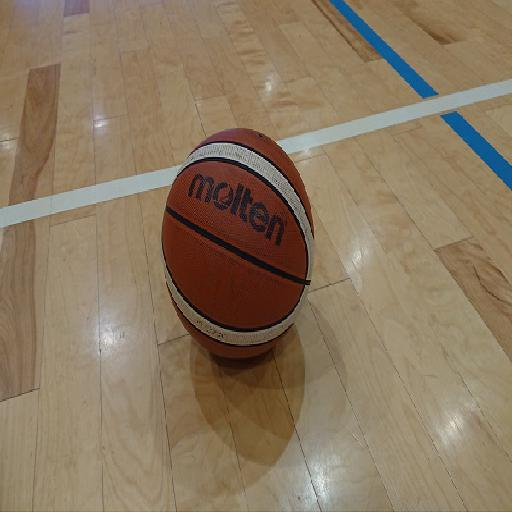ball: (160, 128, 314, 358)
